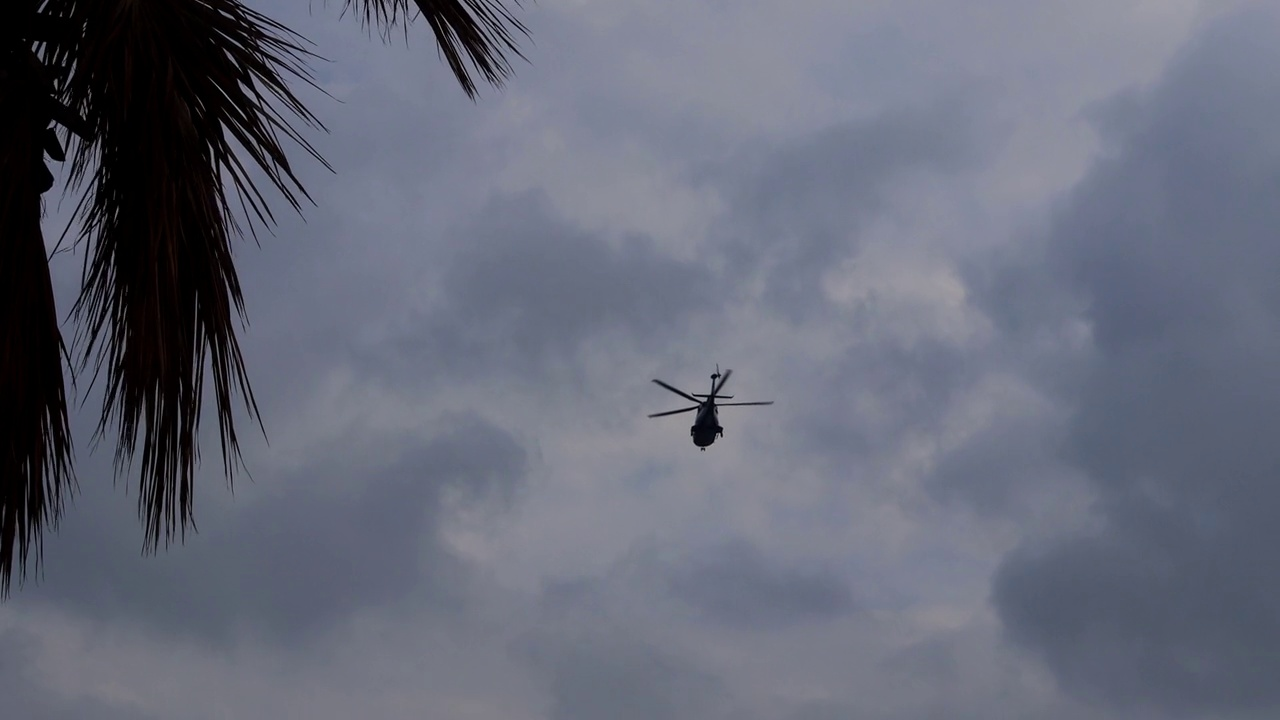heli: (647, 368, 775, 452)
